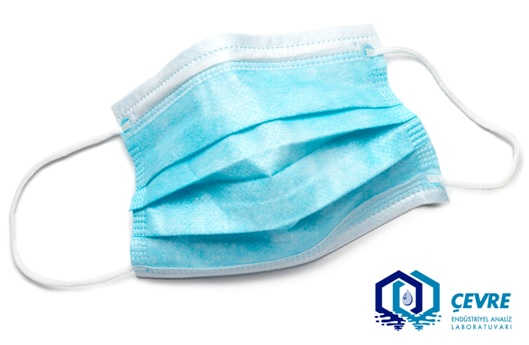maske: (102, 24, 458, 301)
